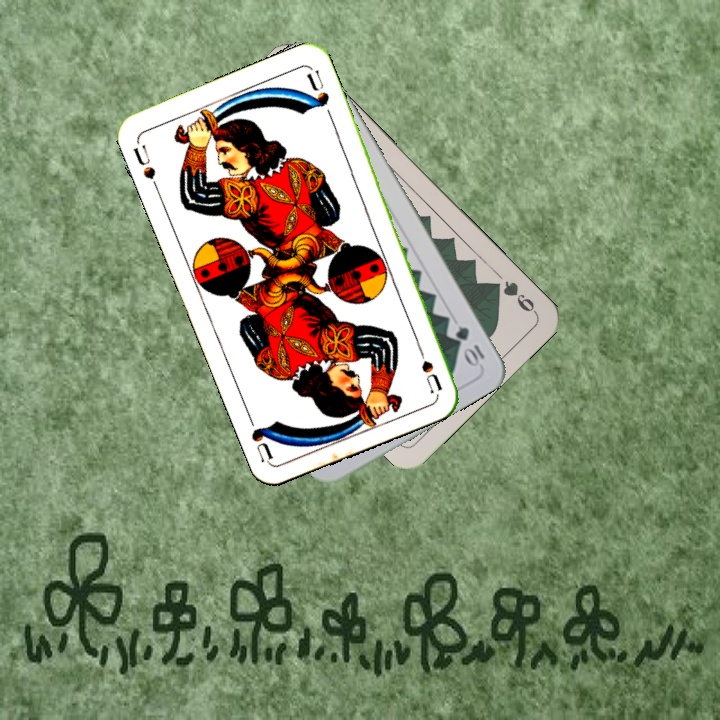G10: (451, 322, 488, 369)
G9: (486, 277, 539, 316)
SU: (412, 337, 445, 394), (129, 141, 159, 182)
